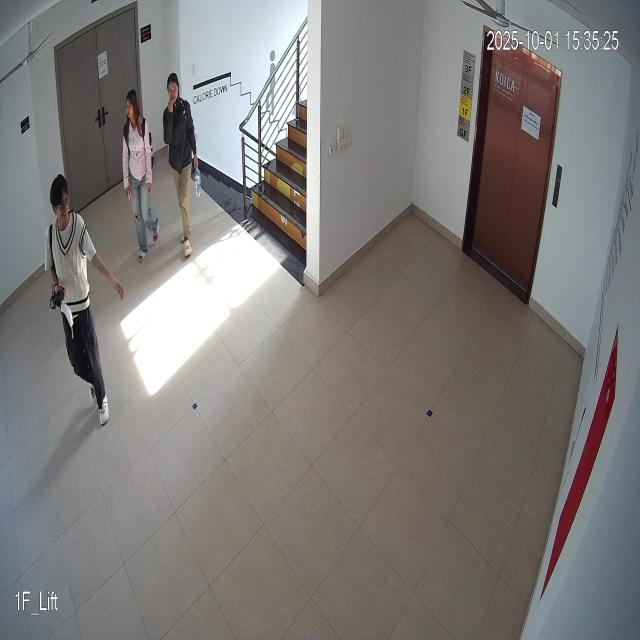face: (48, 172, 72, 232)
